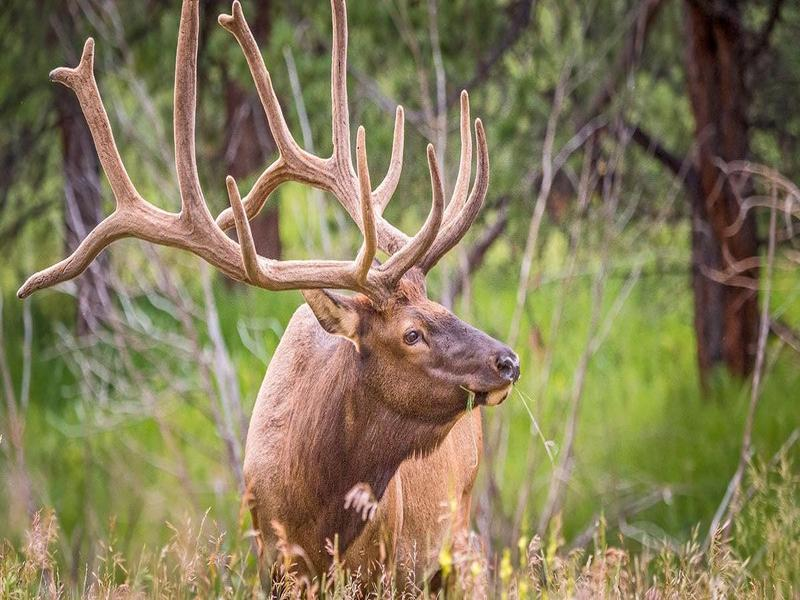elk: (63, 96, 523, 600)
